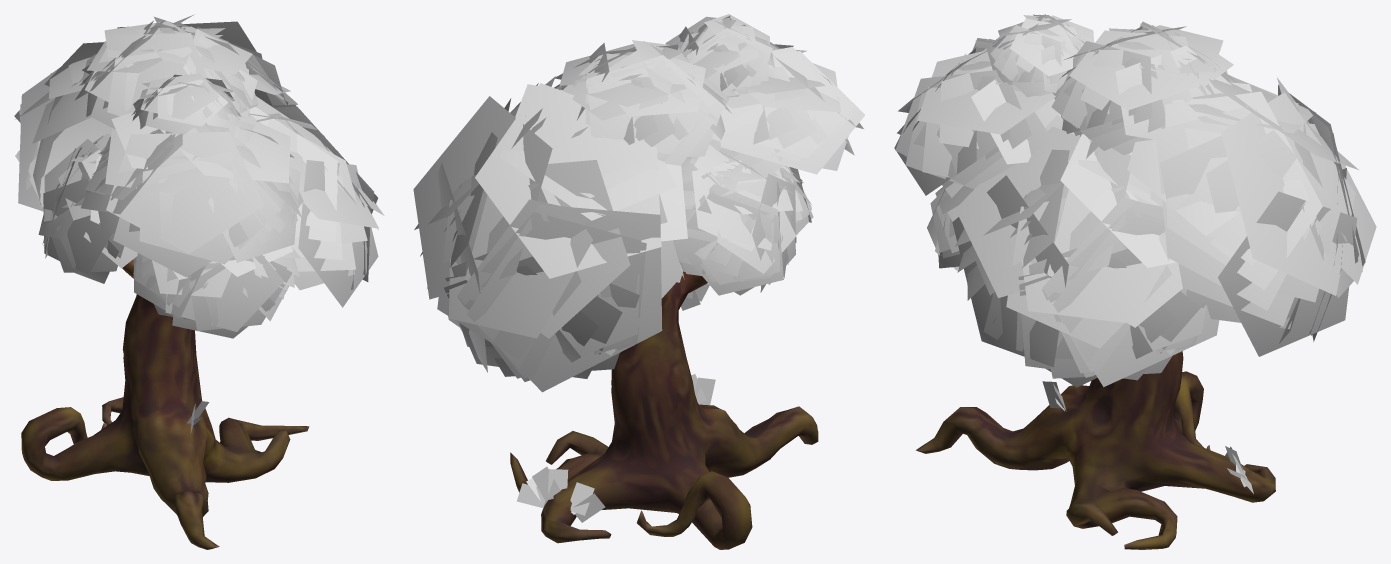
Rendered from Tree_Pine_01.fbx.
3 renders of one model, left to right at view 1: azimuth 30°, elevation 25°; view 2: azimuth 150°, elevation 25°; view 3: azimuth 270°, elevation 25°, orthographic. The views are drawn at different scales.
Parts seen in each view (by area): view 1: Tree_Pine_01_LOD0; view 2: Tree_Pine_01_LOD0; view 3: Tree_Pine_01_LOD0.
Boxes of the visible parts, x1,y1,x2,y2 form: Tree_Pine_01_LOD0: (14, 14, 384, 549); Tree_Pine_01_LOD0: (413, 14, 864, 549); Tree_Pine_01_LOD0: (894, 14, 1376, 549).
Size of what is drawn, in the model's own units: 3.43 by 4.56 by 4.28.
